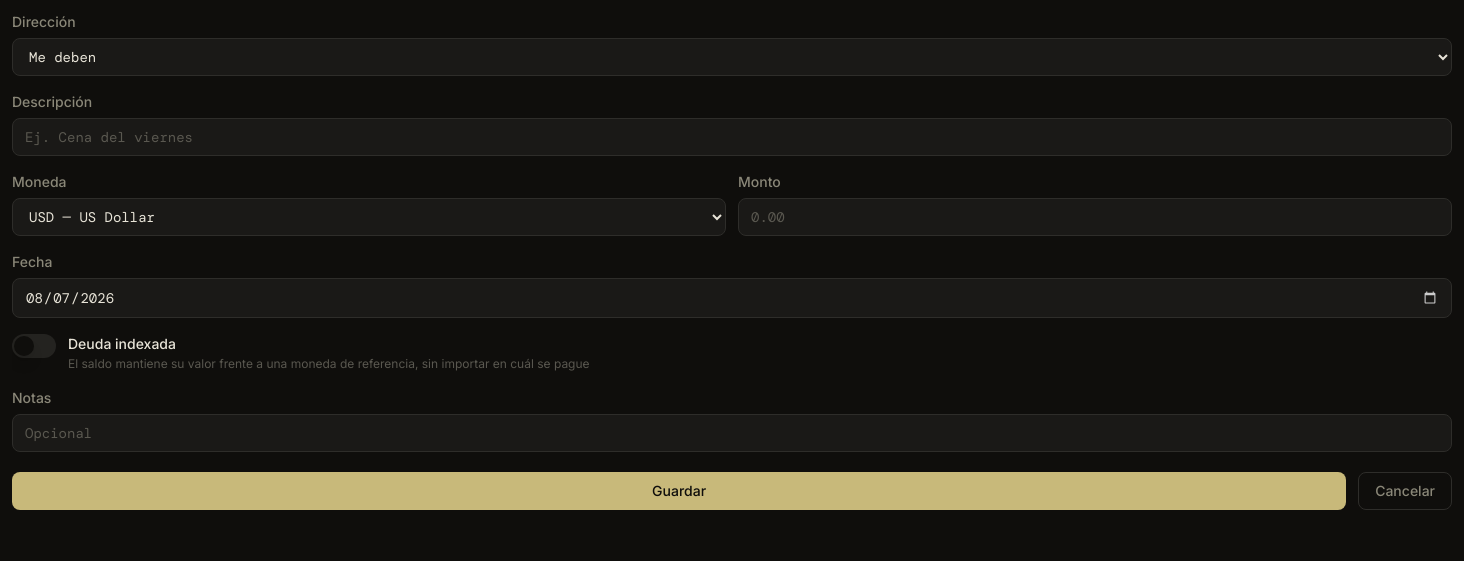
PersonalDebtForm › shows validation error when description is empty
In the number field labelled "Monto": x=1095, y=217 738,198 -> 1452,236, type "5"
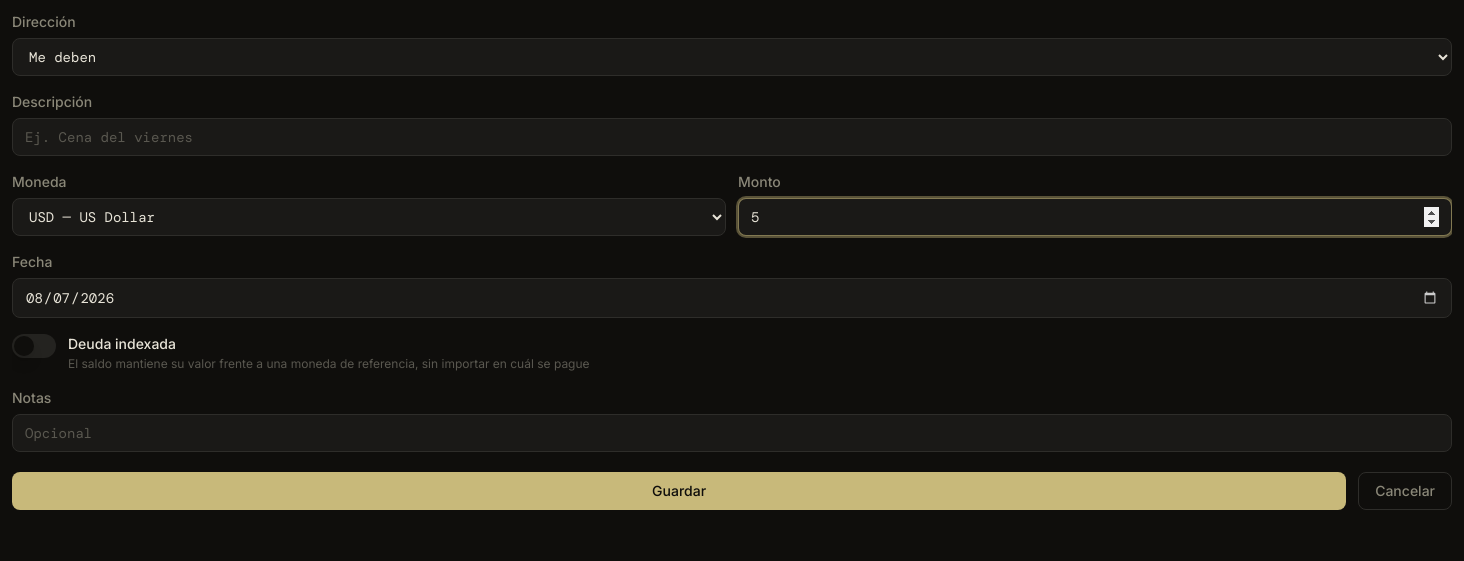
Click the button "Guardar": x=679, y=491 12,472 -> 1346,510
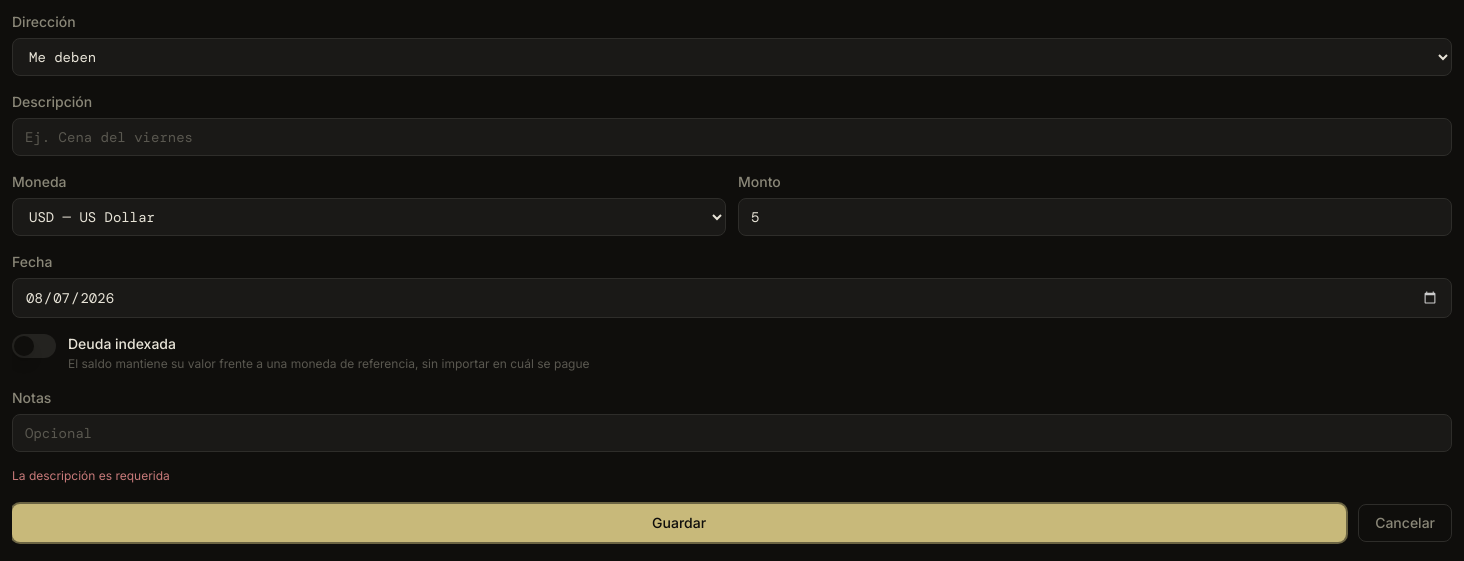
Check: the text "La descripción es requerida" is shown, box 12,468 -> 170,483
